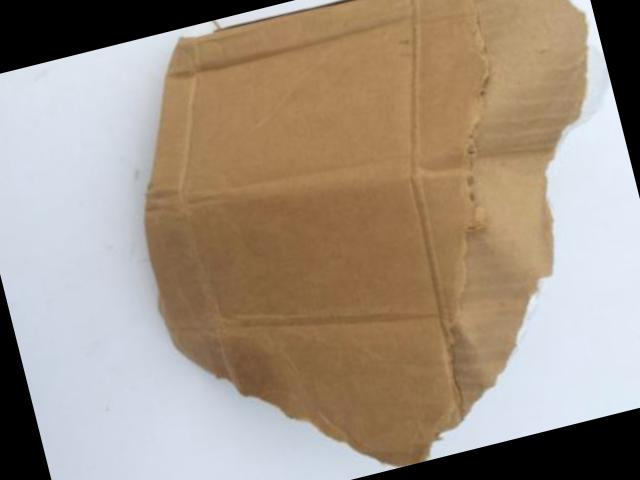cardboard paper: (146, 0, 587, 462)
